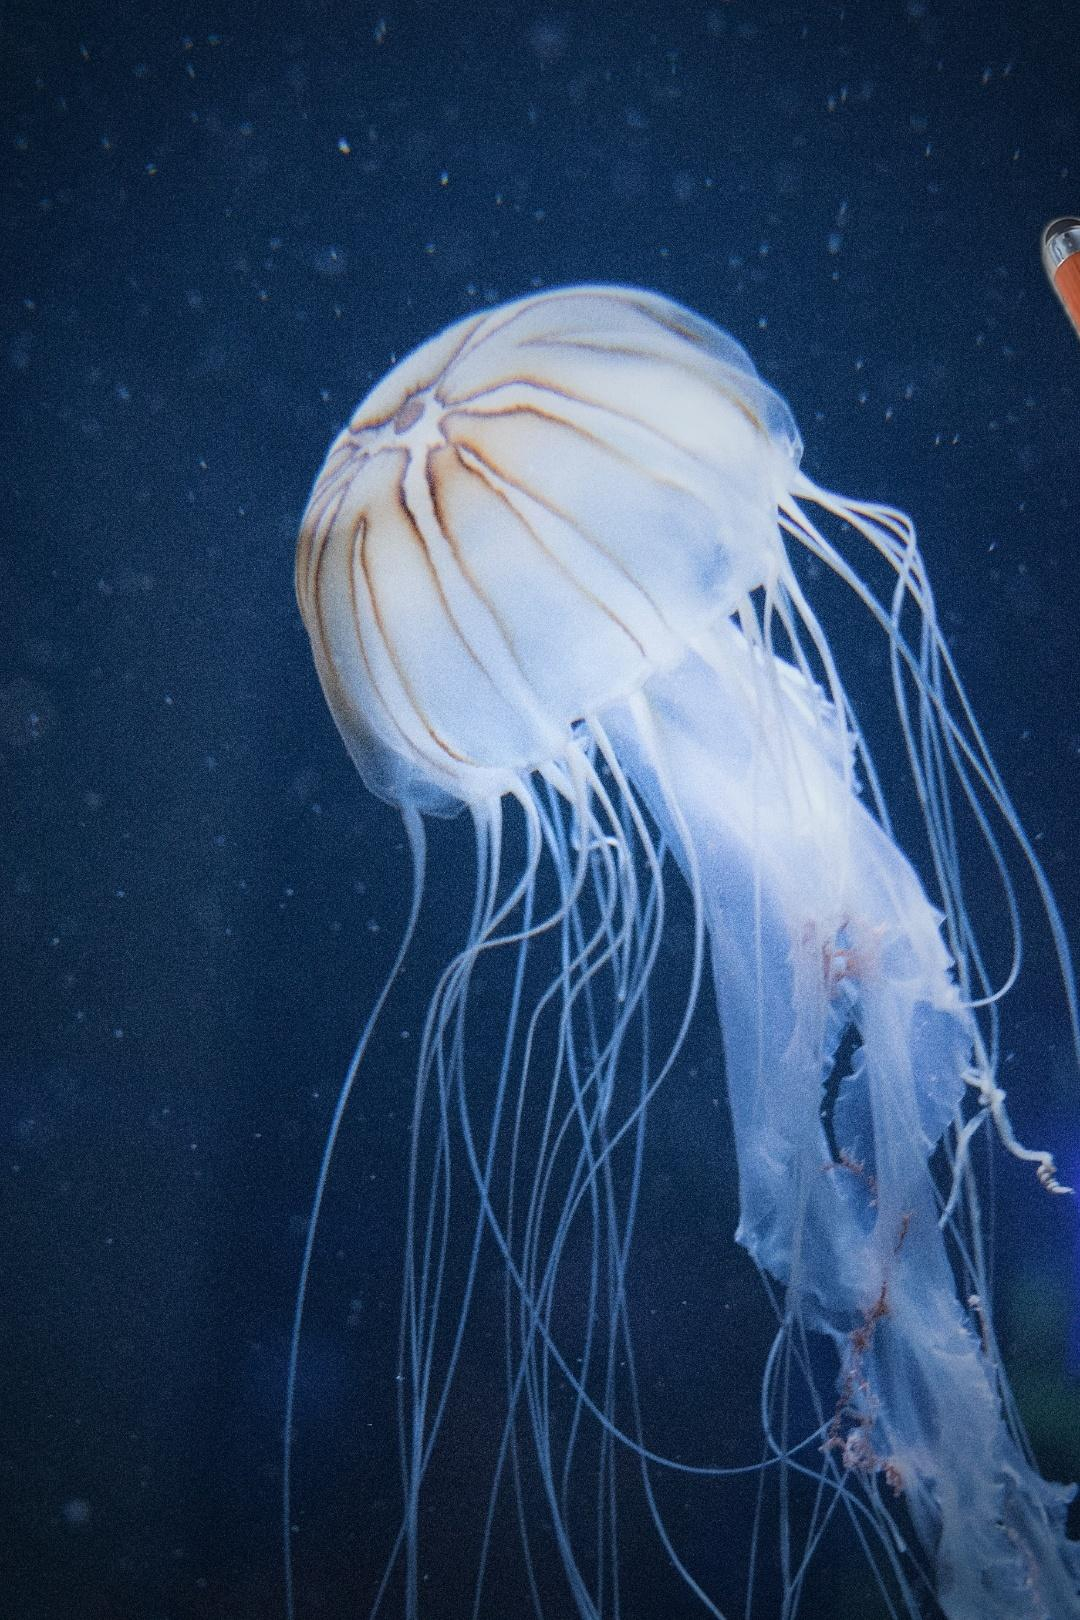penholder: (1022, 75, 1080, 1276)
